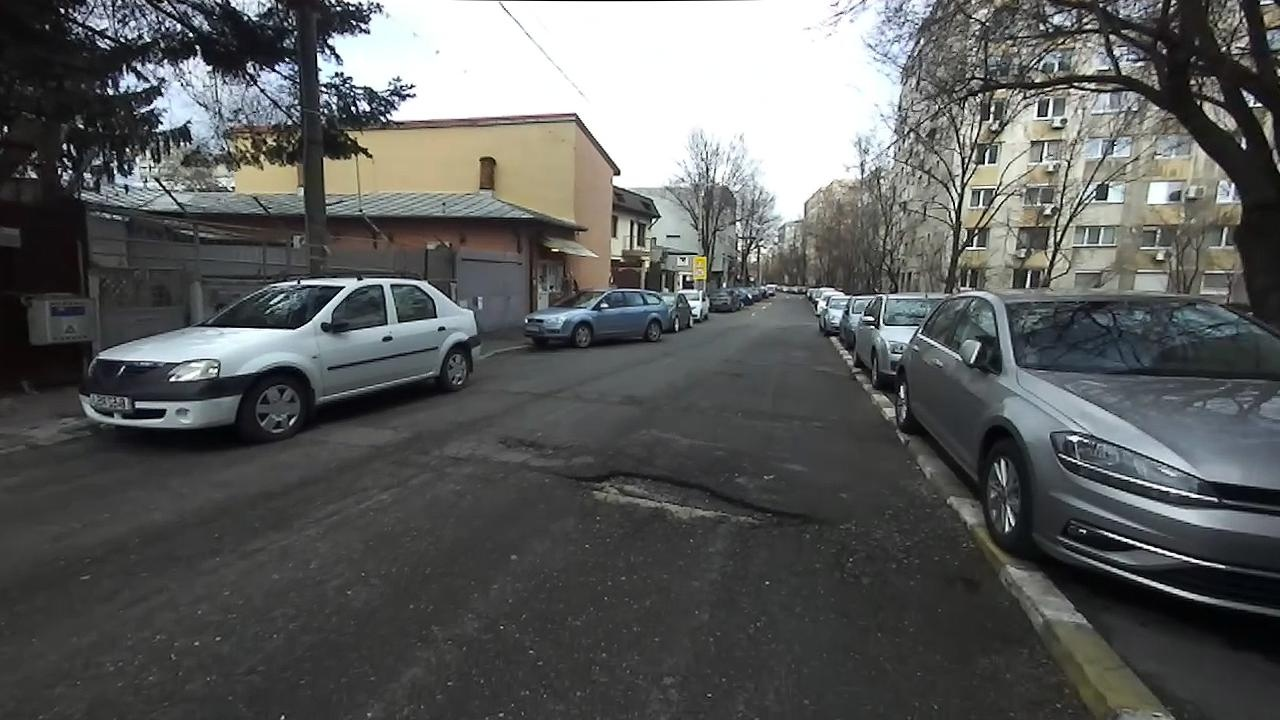pothole: (542, 468, 822, 528), (491, 429, 571, 454)
